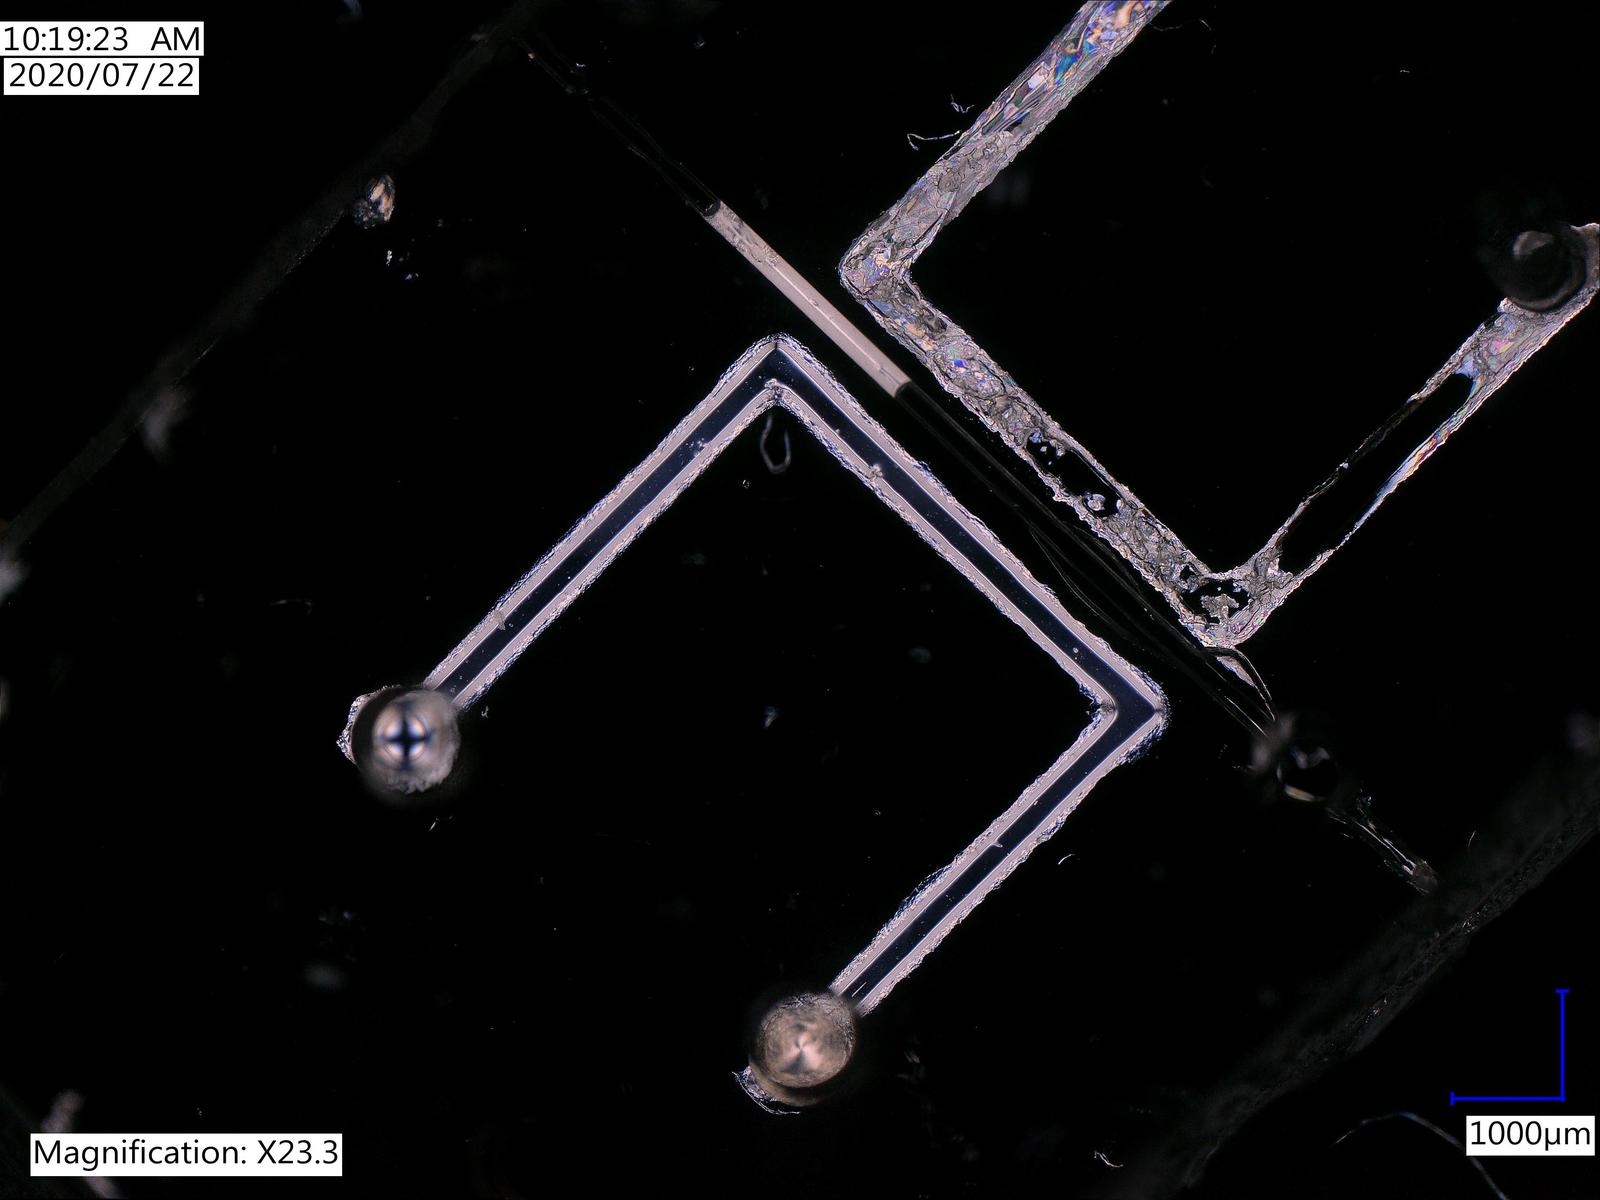sediment: (1112, 504, 1180, 580), (869, 279, 944, 338), (979, 395, 1043, 442), (1251, 550, 1280, 609), (1199, 592, 1237, 618)
